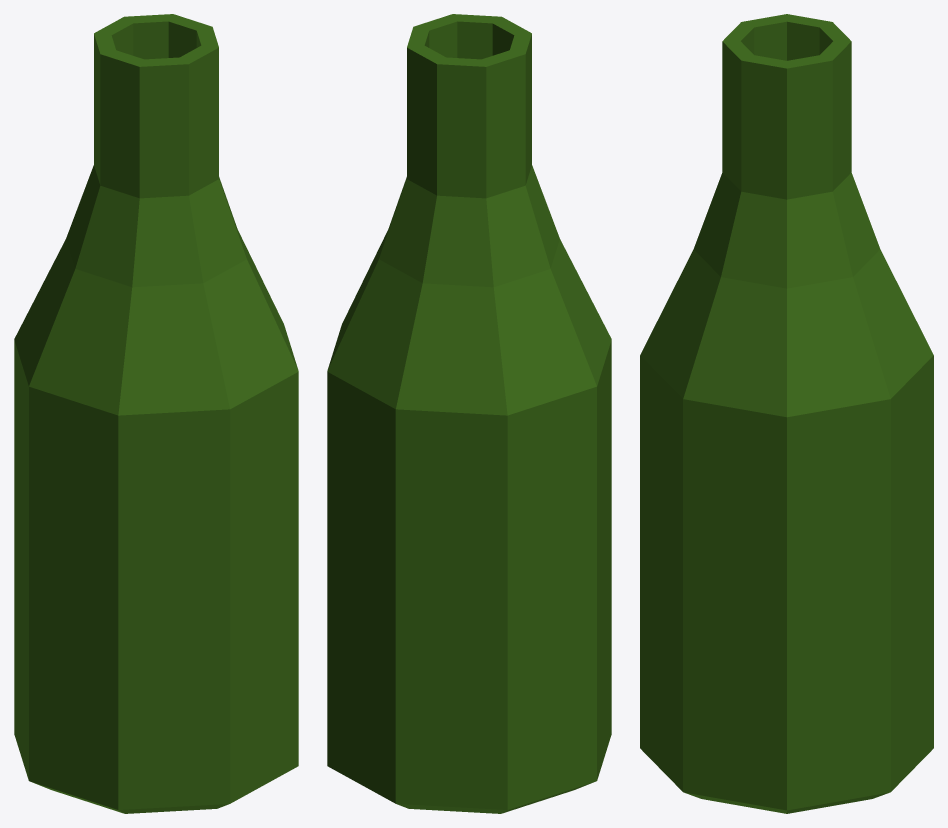
File: bottle.fbx
3 renders of one model, left to right at view 1: azimuth 30°, elevation 25°; view 2: azimuth 150°, elevation 25°; view 3: azimuth 270°, elevation 25°, orthographic.
Parts seen in each view (by area): view 1: Cylinder; view 2: Cylinder; view 3: Cylinder.
Part boxes in pixels (left/top/right/bottom): Cylinder: left=14, top=14, right=298, bottom=813; Cylinder: left=327, top=14, right=611, bottom=813; Cylinder: left=640, top=14, right=933, bottom=813.
Bounding box in the file's own units: 200 × 542 × 200.
